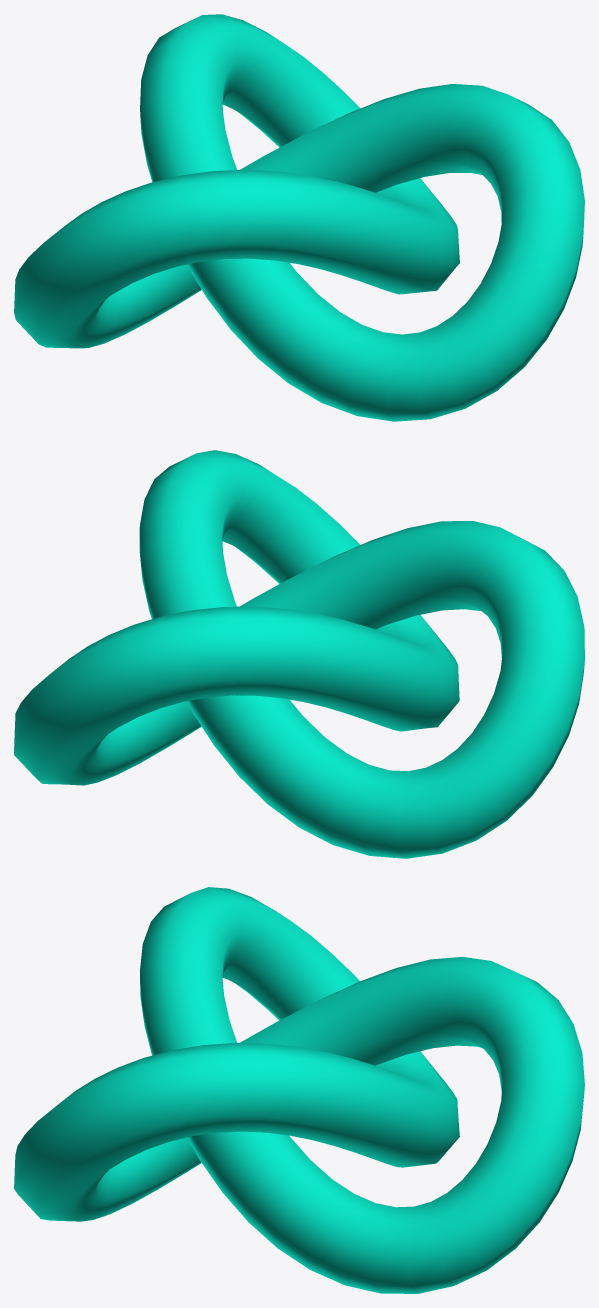
The model's file is torusknot.glb.
The picture shows the model from 3 angles, top to bottom: view 1: azimuth 30°, elevation 25°; view 2: azimuth 150°, elevation 25°; view 3: azimuth 270°, elevation 25°; orthographic projection.
Parts seen in each view (by area): view 1: TorusKnot; view 2: TorusKnot; view 3: TorusKnot.
Boxes of the visible parts, x1,y1,x2,y2 form: TorusKnot: (14, 14, 584, 421); TorusKnot: (14, 450, 584, 858); TorusKnot: (14, 887, 584, 1293).
Bounding box in the file's own units: 6.04 × 2.96 × 6.41.
